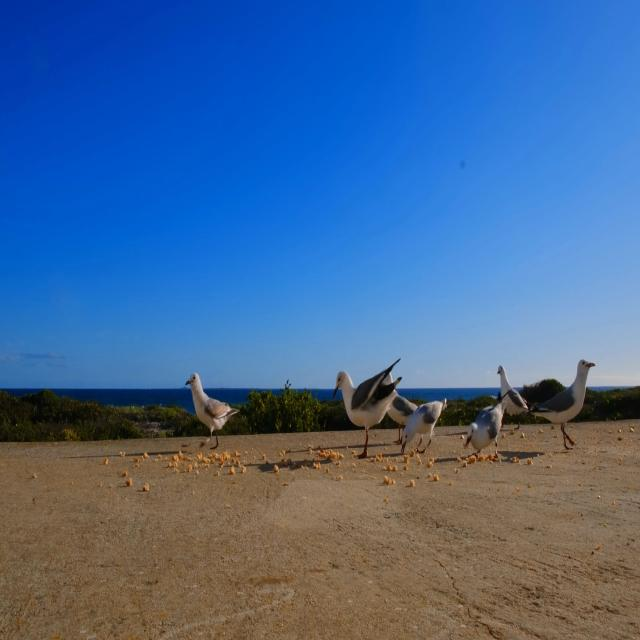bird: (327, 345, 403, 466), (529, 336, 599, 460), (179, 366, 248, 462), (462, 379, 518, 492), (393, 379, 448, 476), (495, 360, 535, 424)
